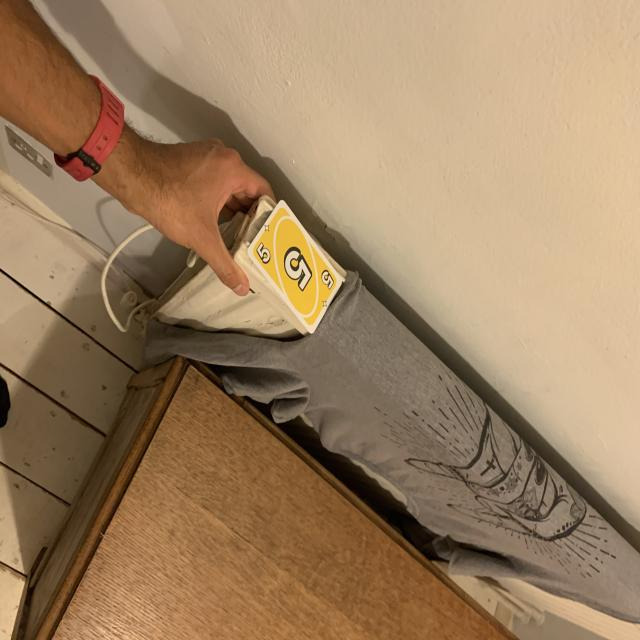lyellow-5: (253, 241, 273, 268)
